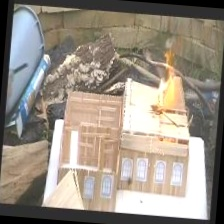fire: (148, 46, 190, 114)
